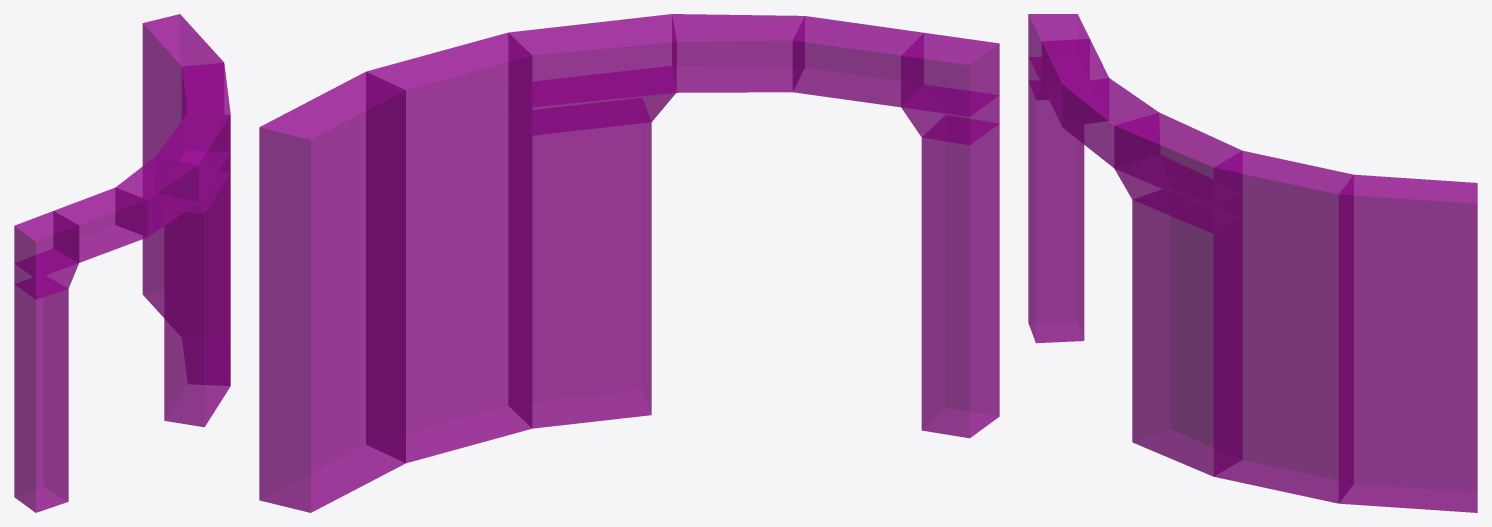
Rendered from SM_Bld_Wall_Curve_Door_01_Collision.fbx.
3 renders of one model, left to right at view 1: azimuth 30°, elevation 25°; view 2: azimuth 150°, elevation 25°; view 3: azimuth 270°, elevation 25°, orthographic. The views are drawn at different scales.
Parts seen in each view (by area): view 1: SM_Bld_Wall_Curve_Door_01_Collision; view 2: SM_Bld_Wall_Curve_Door_01_Collision; view 3: SM_Bld_Wall_Curve_Door_01_Collision.
Boxes of the visible parts, box(x1,y1,x2,y2) form: SM_Bld_Wall_Curve_Door_01_Collision: box(14, 14, 230, 512); SM_Bld_Wall_Curve_Door_01_Collision: box(259, 14, 999, 512); SM_Bld_Wall_Curve_Door_01_Collision: box(1028, 14, 1477, 512).
Bounding box in the file's own units: 398 × 303 × 398.
